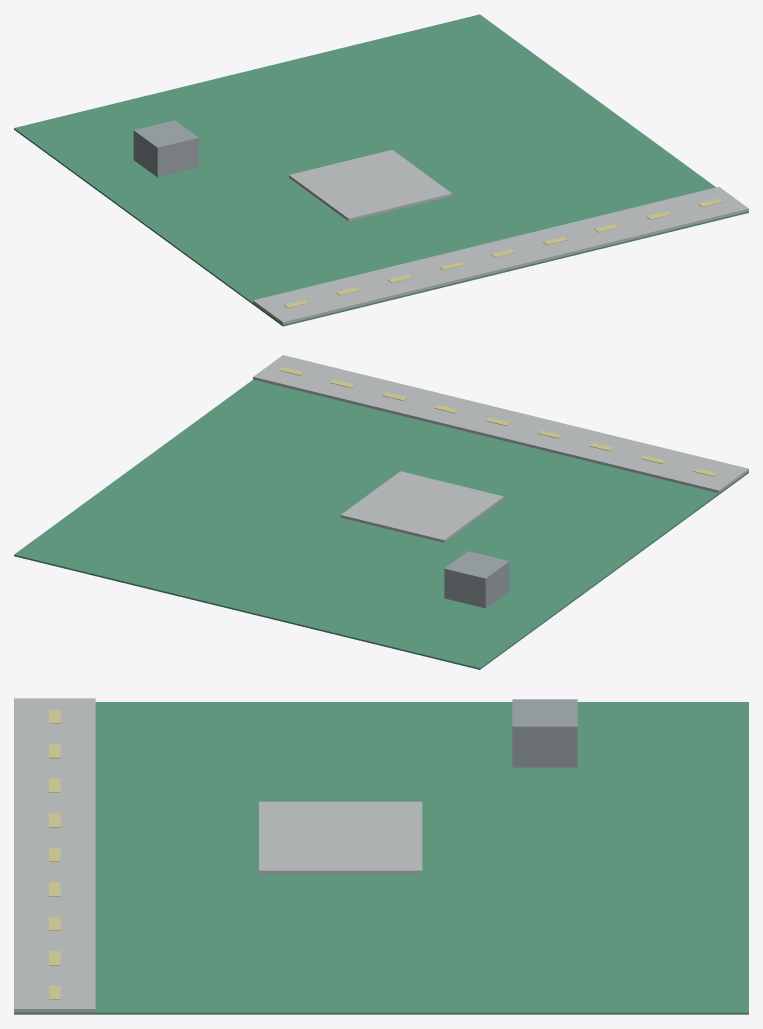
File: stage_02.glb
3 views of the same model, one above another, from view 1: azimuth 30°, elevation 25°; view 2: azimuth 150°, elevation 25°; view 3: azimuth 270°, elevation 25° (orthographic). The views are drawn at different scales.
Parts seen in each view (by area): view 1: geometry_0; view 2: geometry_0; view 3: geometry_0.
Boxes of the visible parts, x1,y1,x2,y2 form: geometry_0: [14, 14, 748, 326]; geometry_0: [14, 355, 748, 669]; geometry_0: [14, 698, 748, 1014].
Size of the model in its own units: 9 by 0.58 by 9.
